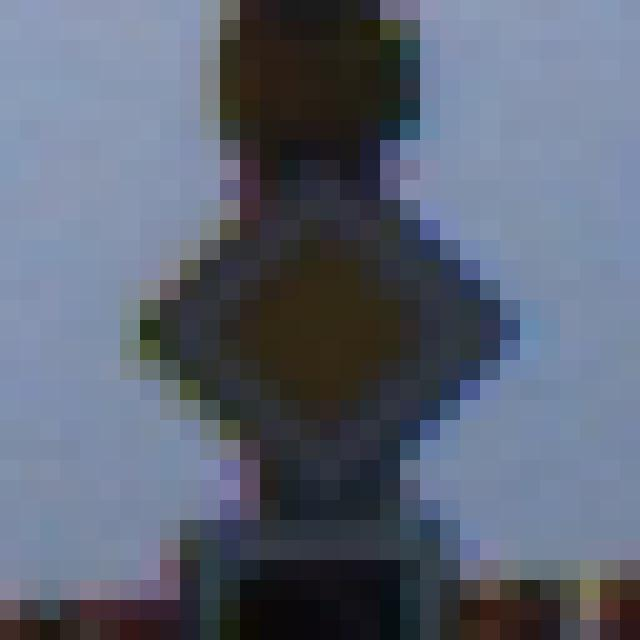Main Road: (121, 121, 541, 541)
